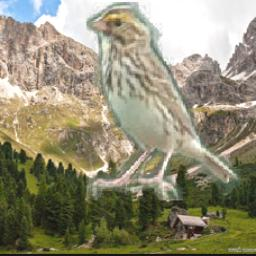Sparrow: (85, 3, 239, 201)
